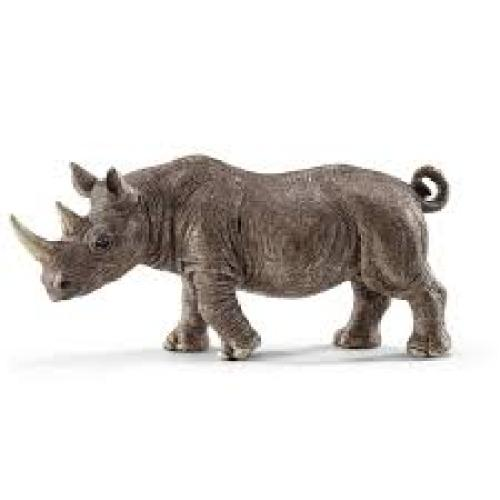rhino-endangered: (11, 152, 452, 356)
